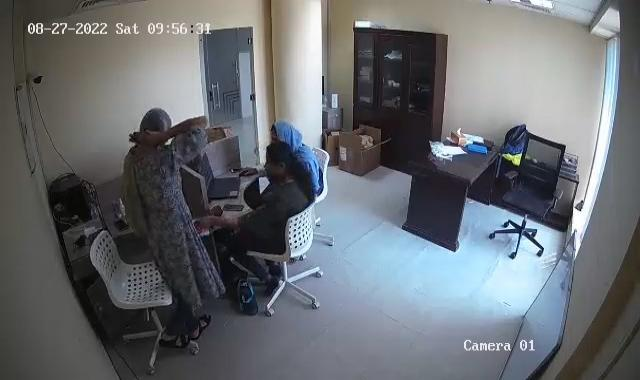hairnet: (136, 108, 179, 144)
no_hairnet: (264, 144, 300, 180), (270, 117, 302, 150)
